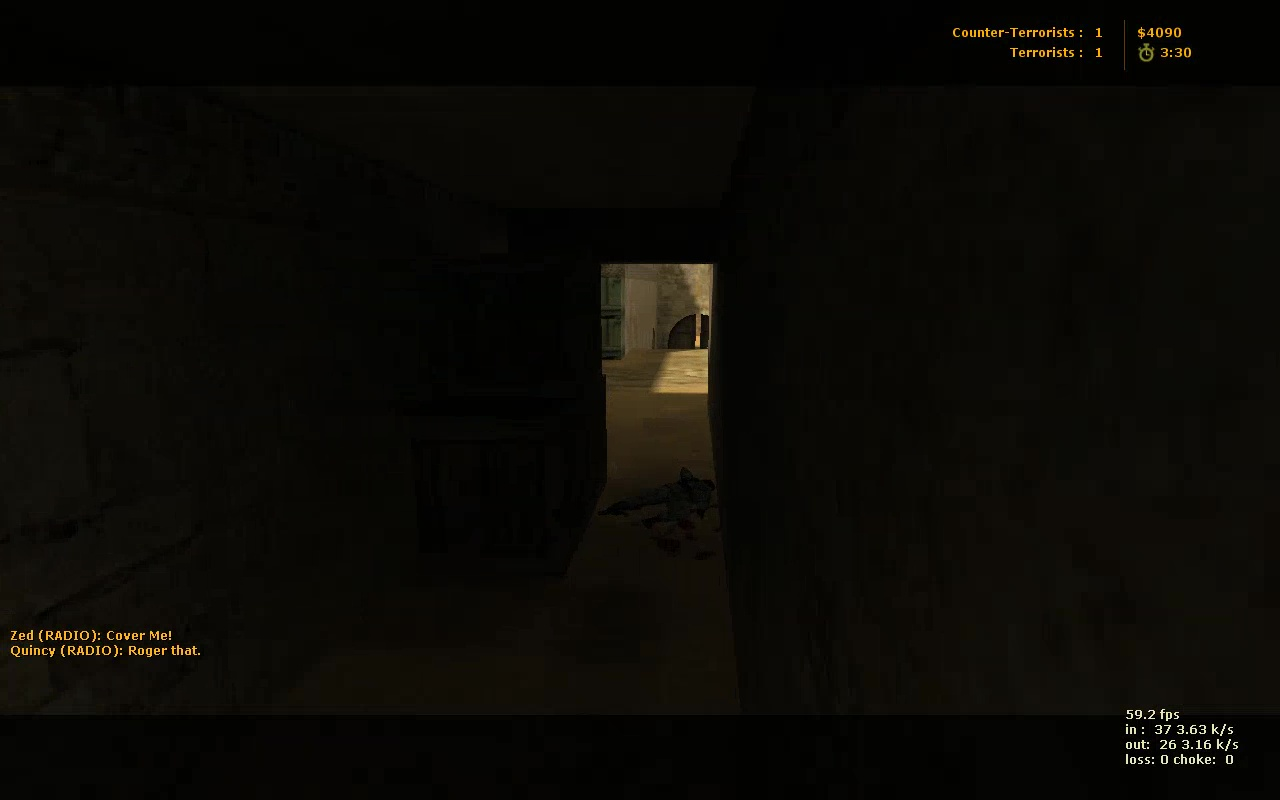dead: (602, 468, 718, 540)
